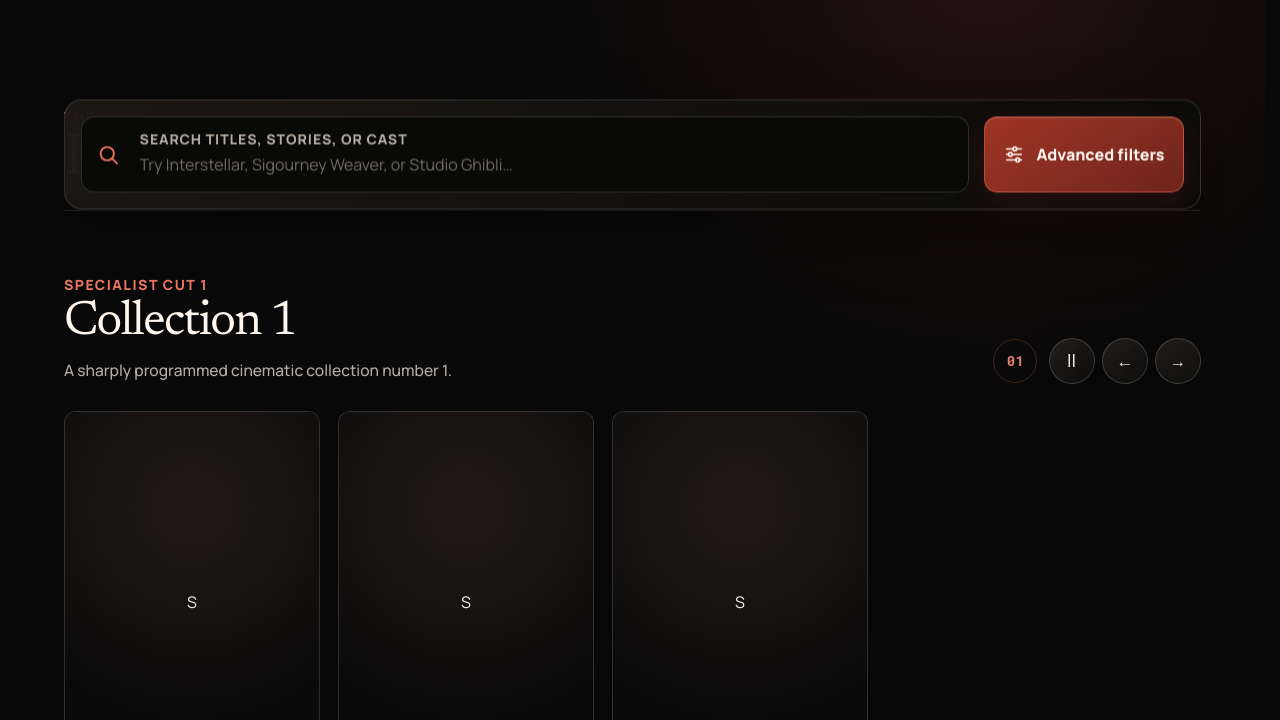
Test: BrowseExperience › exposes keyboard and pointer controls on every horizontal shelf
(page scrolled)
Check: the element named "Collection 1 carousel controls" is shown, box [993,338,1201,384]
What coordinates should you click on to do the following:
click the button named "Pause automatic movement in Collection 1"
I would click on:
 (1072, 361)
Its box is [1049,338,1095,384].
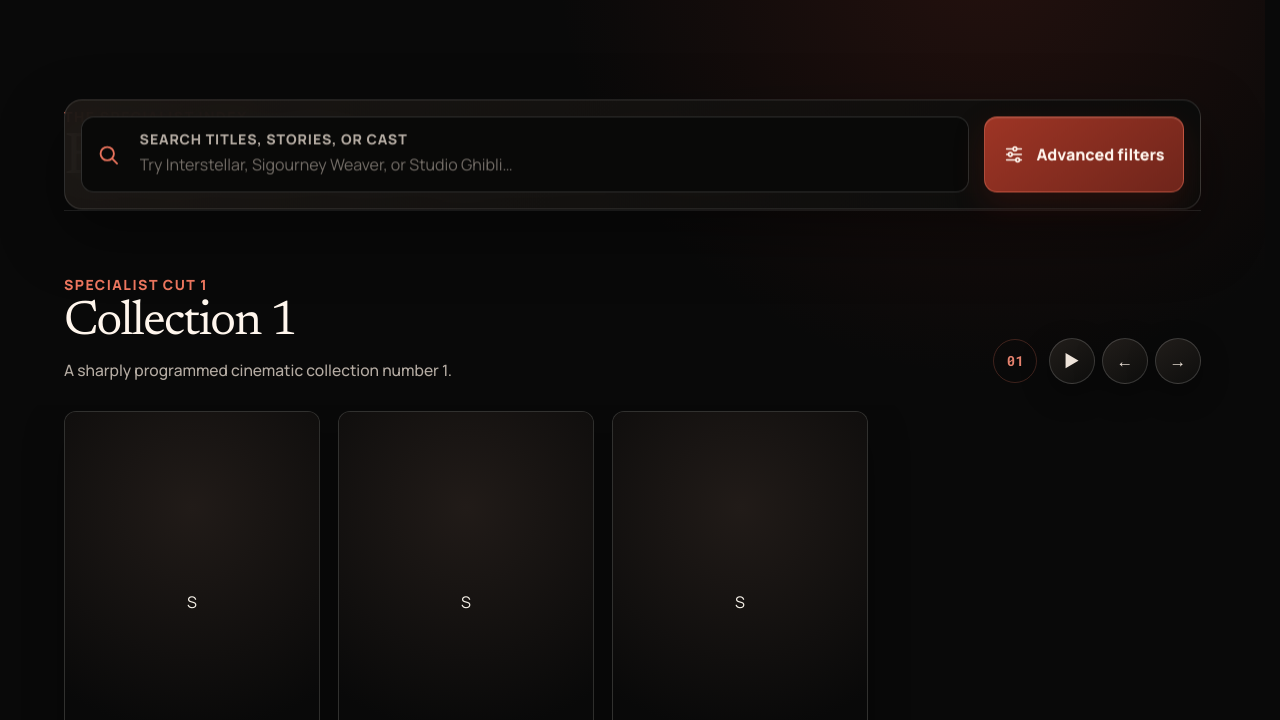
Check: the button named "Previous titles in Collection 1" is shown, box [1102,338,1148,384]
Check: the button named "Resume automatic movement in Collection 1" is shown, box [1049,338,1095,384]
